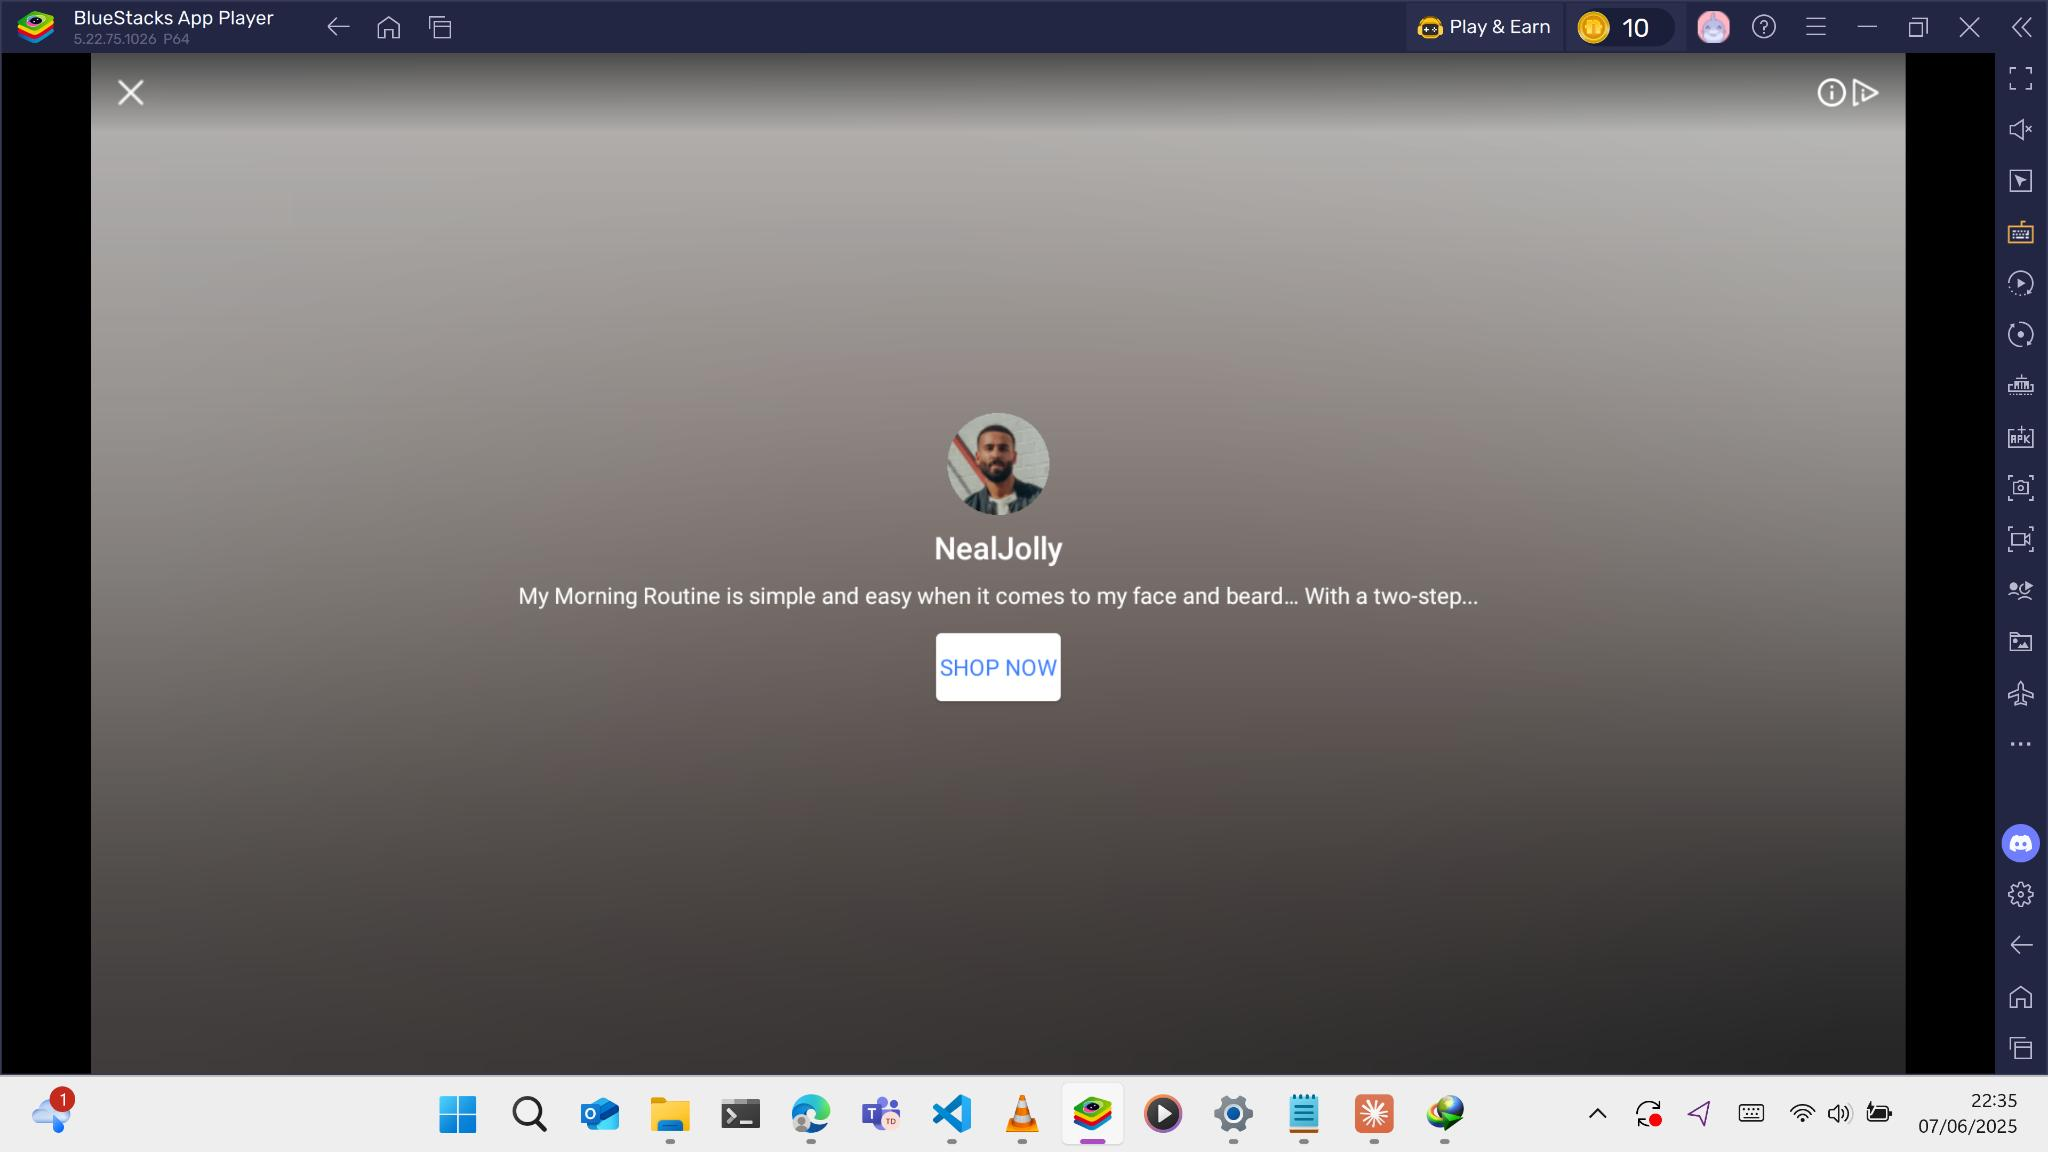close_ad: (112, 75, 150, 107)
windows_button: (437, 1095, 480, 1132)
